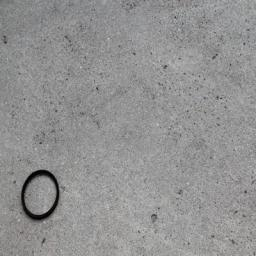FOD: (20, 169, 62, 223)
